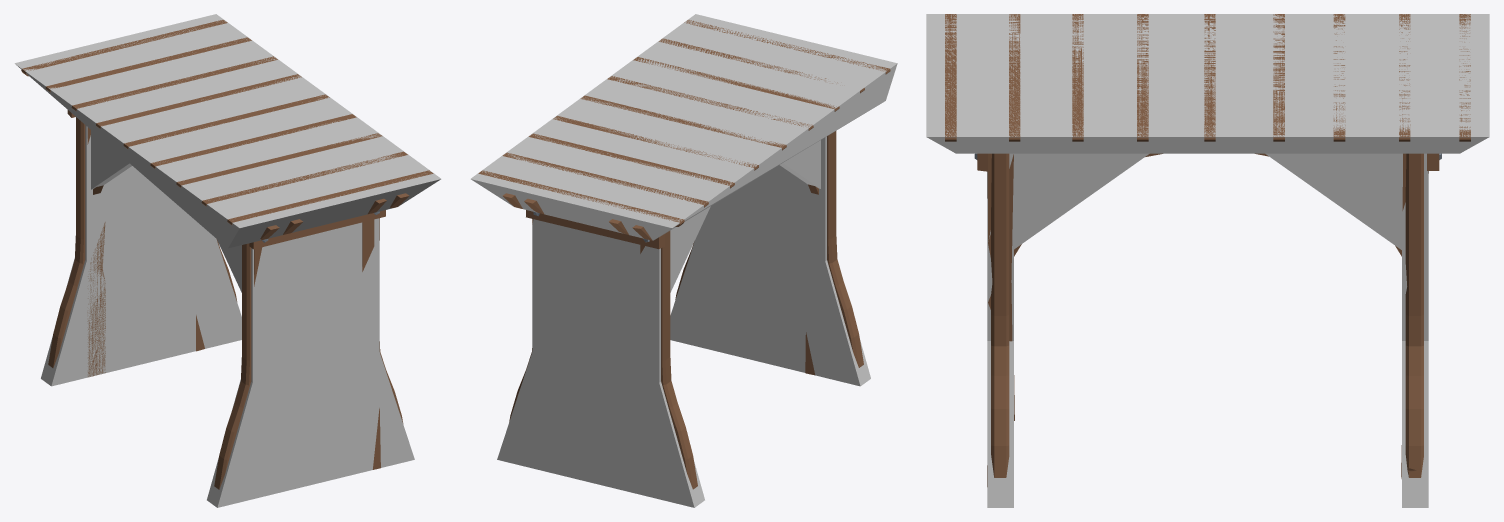
Rendered from SM_Prop_Trellis_01.fbx.
The picture shows the model from 3 angles, left to right: view 1: azimuth 30°, elevation 25°; view 2: azimuth 150°, elevation 25°; view 3: azimuth 270°, elevation 25°; orthographic projection. The views are drawn at different scales.
Parts seen in each view (by area): view 1: SM_Prop_Trellis_01_ConvexHulls, SM_Prop_Trellis_01; view 2: SM_Prop_Trellis_01_ConvexHulls, SM_Prop_Trellis_01; view 3: SM_Prop_Trellis_01_ConvexHulls, SM_Prop_Trellis_01.
Part boxes in pixels (<box>): SM_Prop_Trellis_01_ConvexHulls: <box>14,14,440,507</box>; SM_Prop_Trellis_01: <box>21,20,433,489</box>; SM_Prop_Trellis_01_ConvexHulls: <box>471,14,897,507</box>; SM_Prop_Trellis_01: <box>478,20,890,489</box>; SM_Prop_Trellis_01_ConvexHulls: <box>926,14,1489,507</box>; SM_Prop_Trellis_01: <box>945,14,1470,486</box>.
Bounding box in the file's own units: 199 × 384 × 280.
2 materials, 1 textured.
